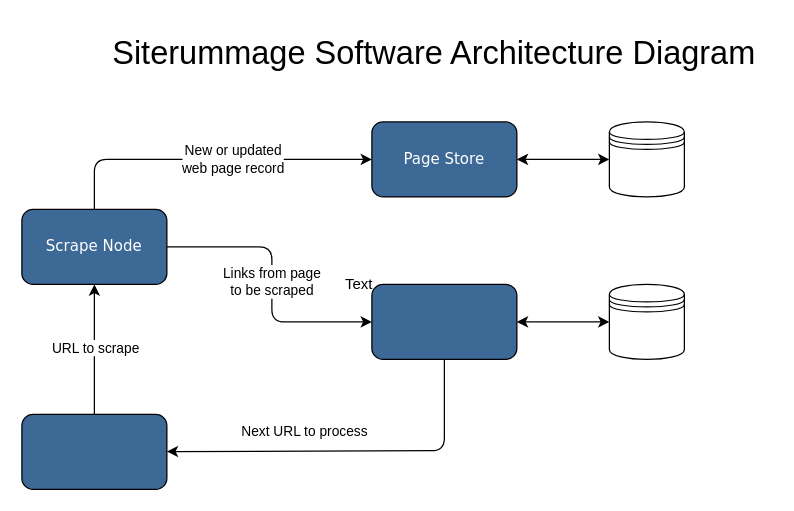
This 794x511 diagram has some shape labels left out. The shapes that lost their labels are listed below. From the top down, each one's centre as x and y in pixels, then its label:
At (444,321): "Processing Queue".
At (94,451): "Big Broker".
